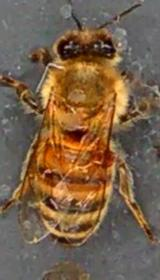varroa_mite: (82, 145, 116, 169)
